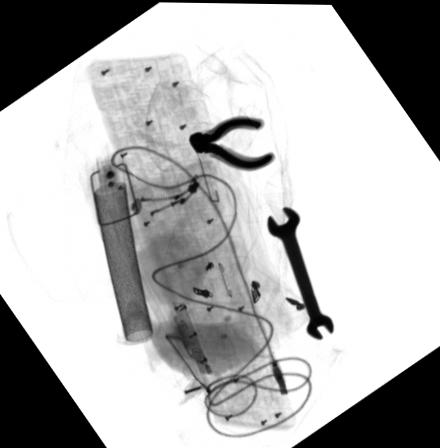Pliers: (188, 113, 277, 172)
Wrench: (268, 204, 335, 338)
